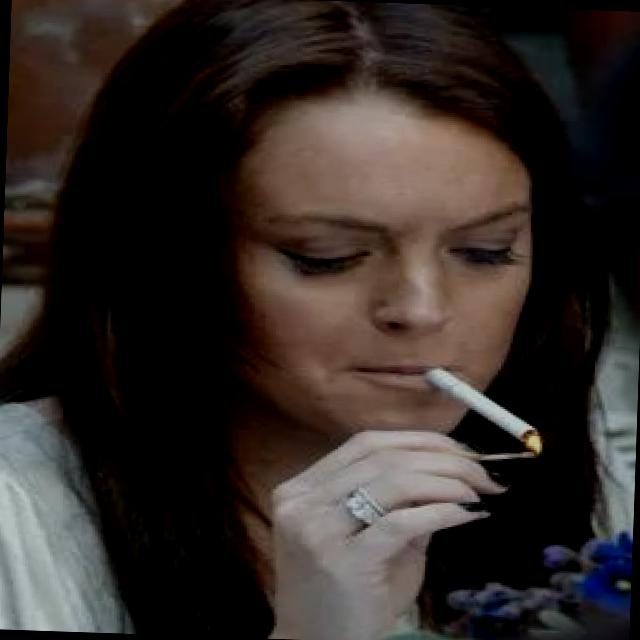smoke: (415, 364, 553, 448)
